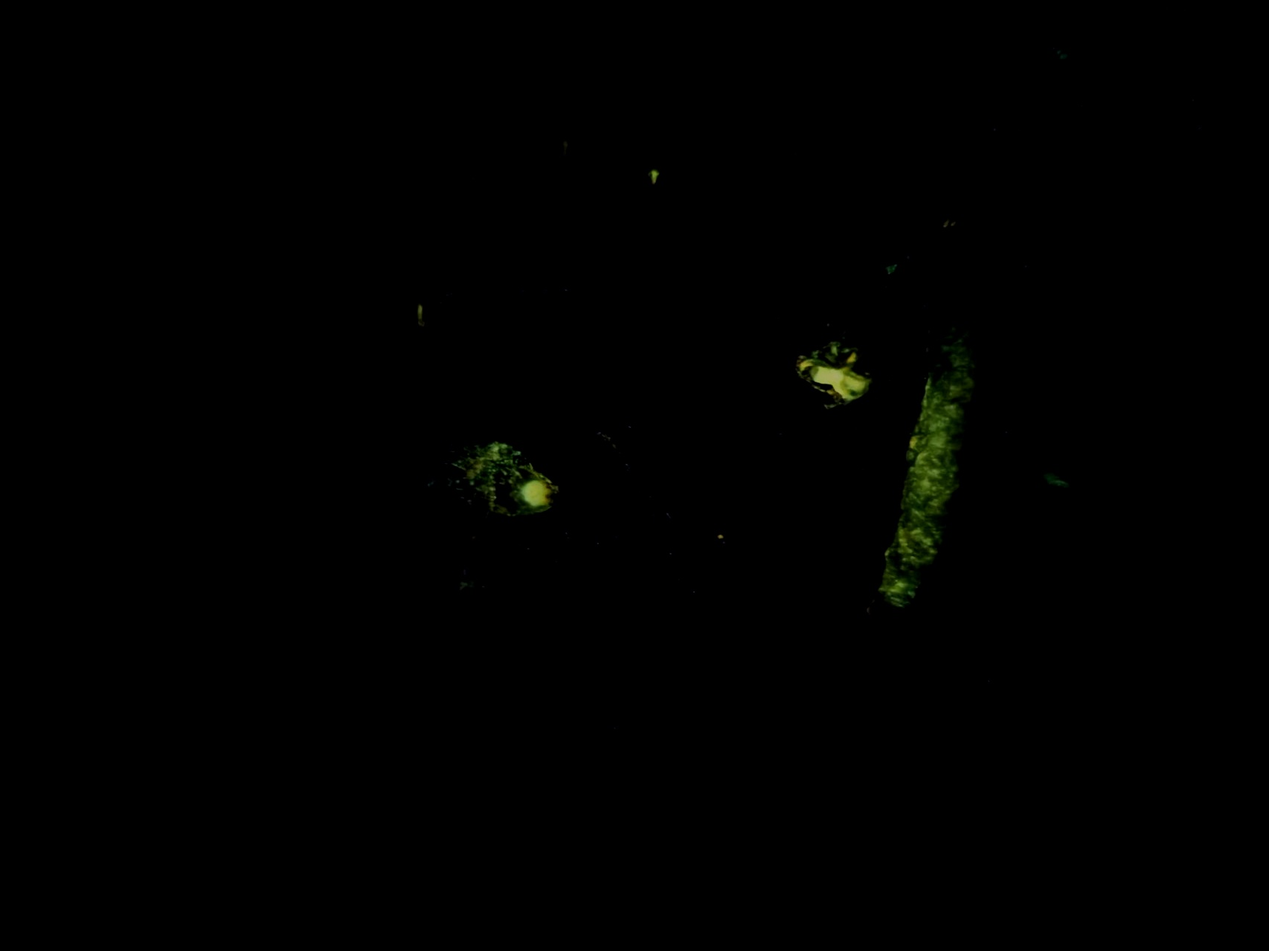Crater: (400, 418, 631, 541), (751, 314, 886, 425)
